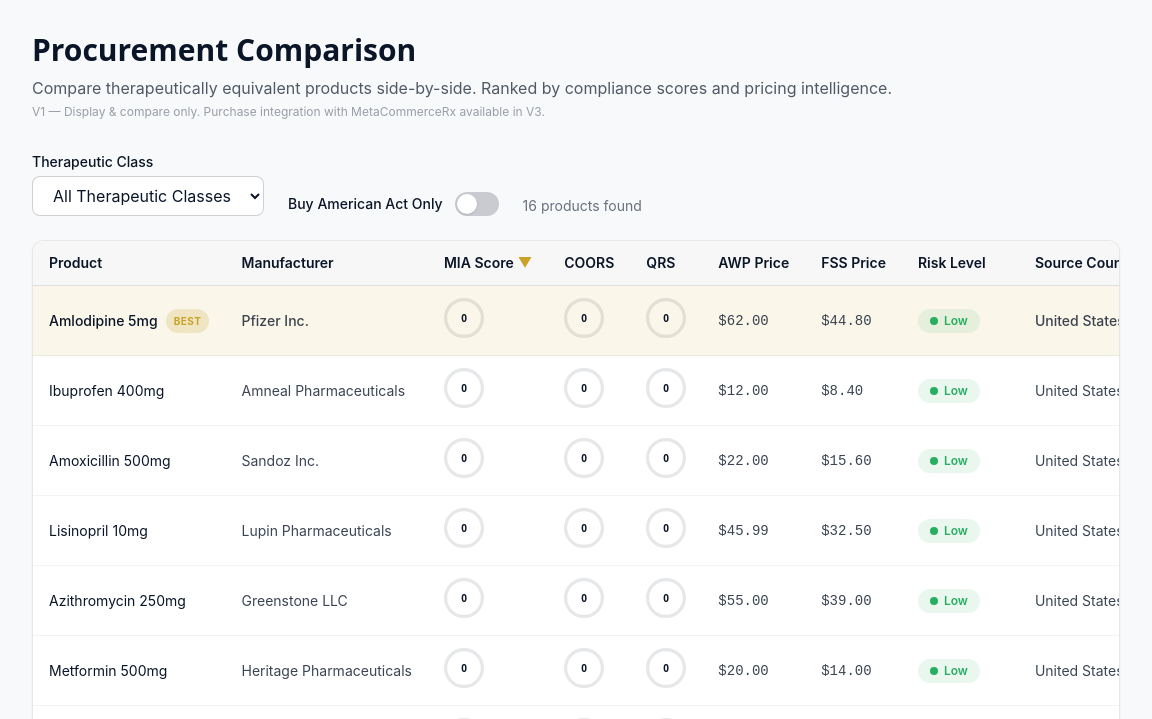
Test case: Procurement › BAA filter › toggles BAA filter back off
The image size is (1152, 719).
Click the switch with test id "baa-toggle": (477, 204) [455, 192, 499, 216]
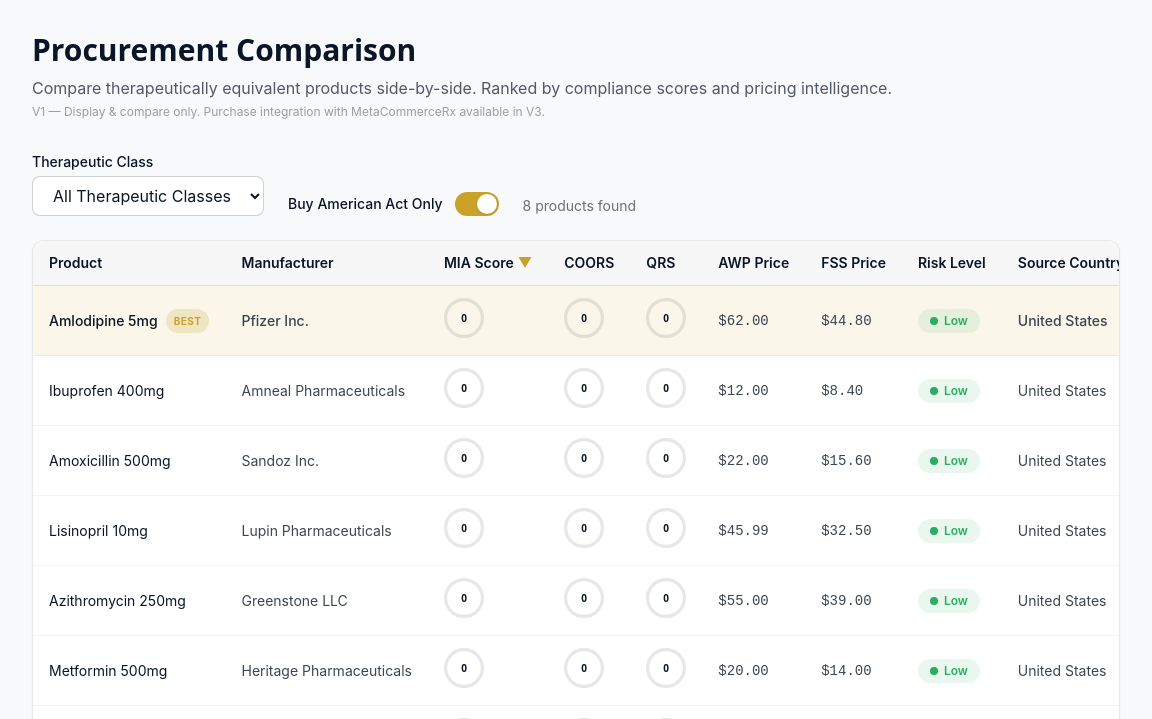
Click the switch with test id "baa-toggle": (477, 204) [455, 192, 499, 216]
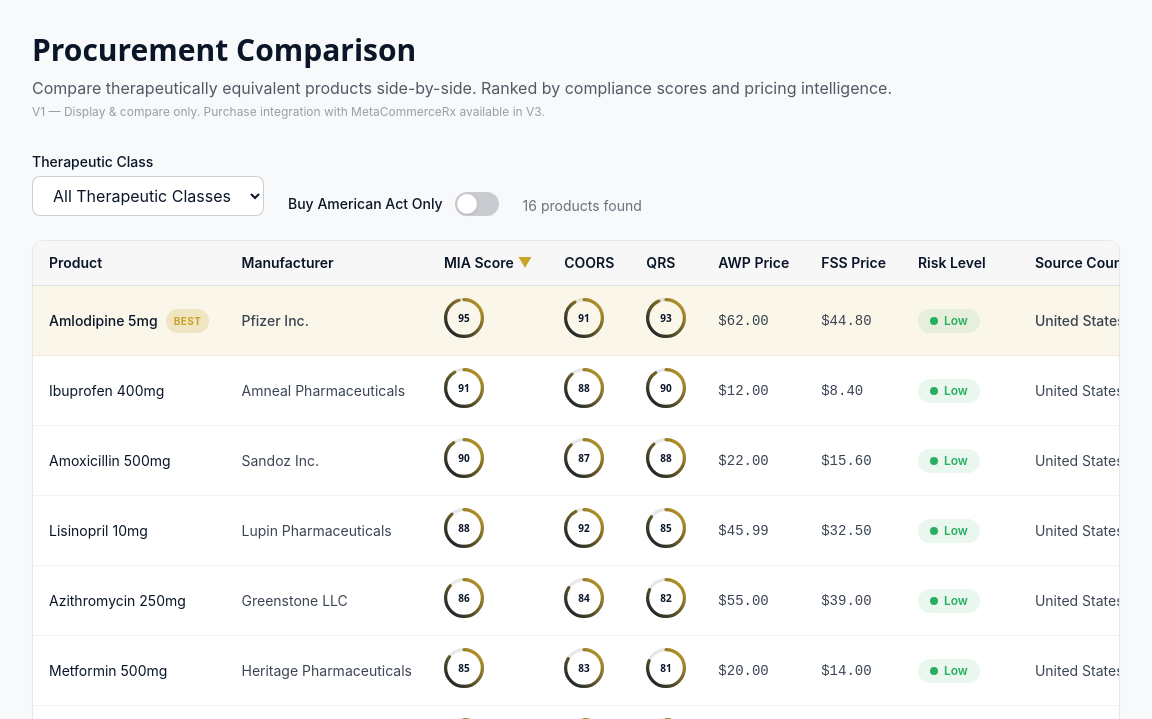
Check: the text "16 products found" is shown, box [523, 196, 642, 216]
